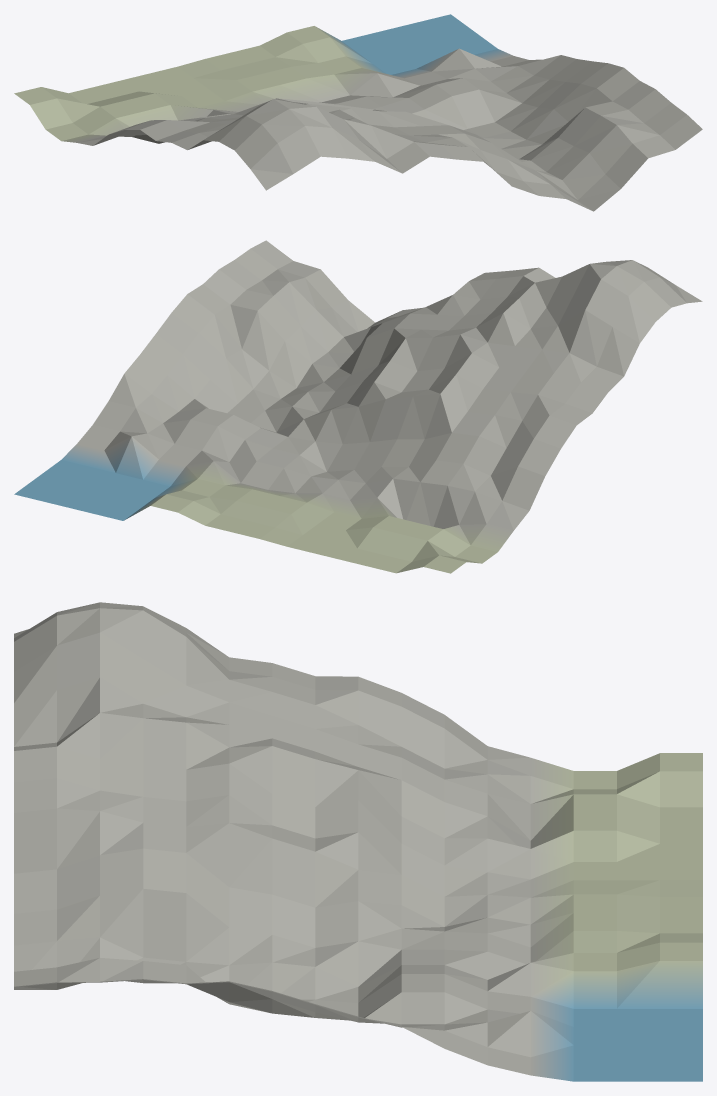
3 renders of one model, top to bottom at view 1: azimuth 30°, elevation 25°; view 2: azimuth 150°, elevation 25°; view 3: azimuth 270°, elevation 25°, orthographic. The views are drawn at different scales.
Size of the model in its own units: 32 by 11.21 by 32.
